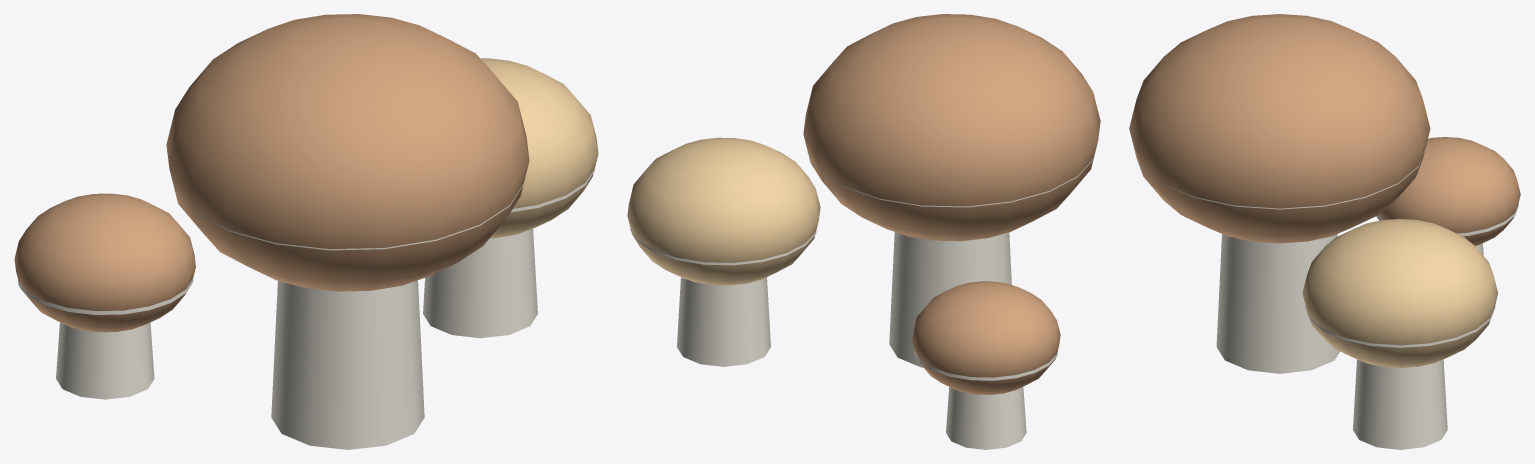
The model's file is mushrooms.glb.
The picture shows the model from 3 angles, left to right: view 1: azimuth 30°, elevation 25°; view 2: azimuth 150°, elevation 25°; view 3: azimuth 270°, elevation 25°; orthographic projection. The views are drawn at different scales.
Visible parts, largest first — view 1: Mushrooms; view 2: Mushrooms; view 3: Mushrooms.
Part boxes in pixels (x1=…): Mushrooms: x1=14, y1=14, x2=598, y2=449; Mushrooms: x1=627, y1=14, x2=1100, y2=449; Mushrooms: x1=1129, y1=14, x2=1520, y2=449.
Bounding box in the file's own units: 0.335 × 0.23 × 0.26.
